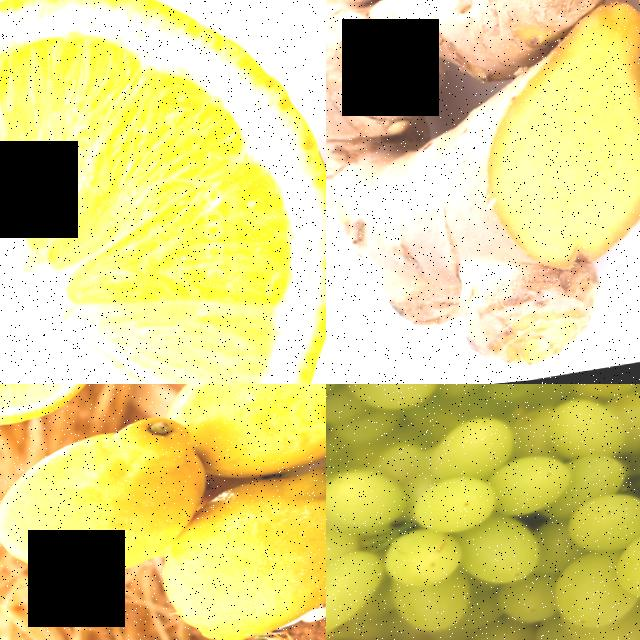ginger: (326, 0, 640, 384)
grapes: (326, 391, 640, 640), (326, 384, 640, 466)
lemon: (0, 0, 326, 384), (0, 414, 202, 592), (180, 465, 326, 640), (196, 384, 326, 490)
